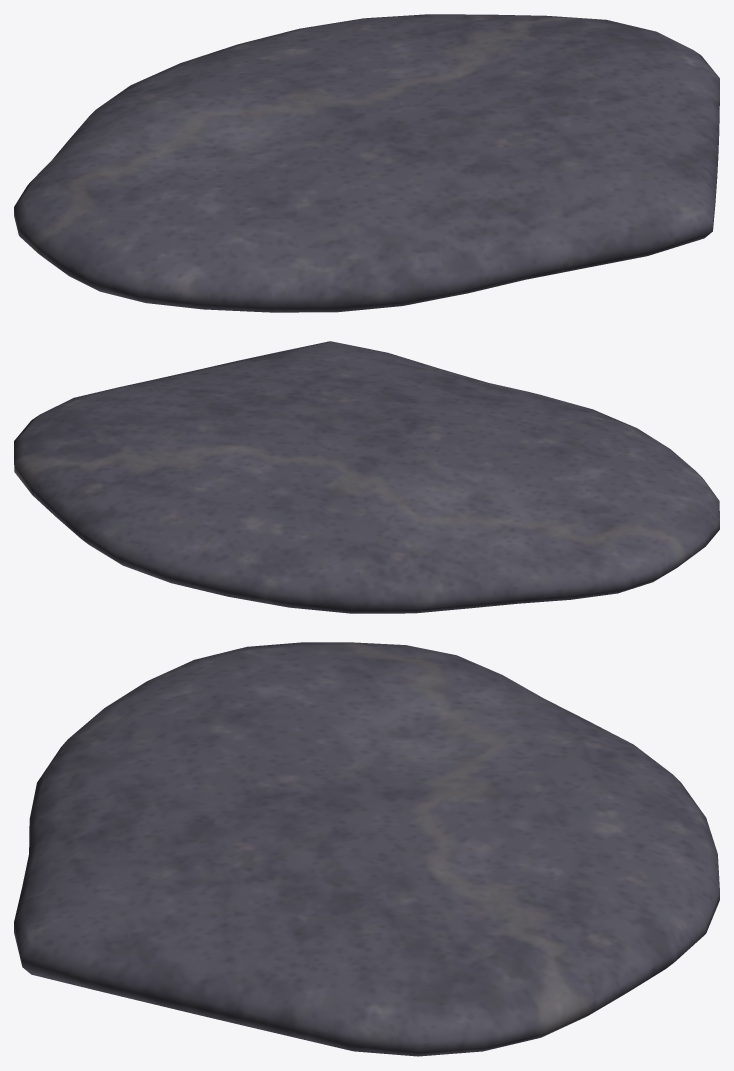
Rendered from standard_08.glb.
3 renders of one model, top to bottom at view 1: azimuth 30°, elevation 25°; view 2: azimuth 150°, elevation 25°; view 3: azimuth 270°, elevation 25°, orthographic. The views are drawn at different scales.
Parts seen in each view (by area): view 1: standard_08; view 2: standard_08; view 3: standard_08.
Part boxes in pixels (left/top/right/bottom): standard_08: left=14, top=14, right=719, bottom=312; standard_08: left=14, top=341, right=719, bottom=613; standard_08: left=14, top=642, right=719, bottom=1056.
Bounding box in the file's own units: 0.0761 × 0.00881 × 0.0575.
1 material, 1 textured.
